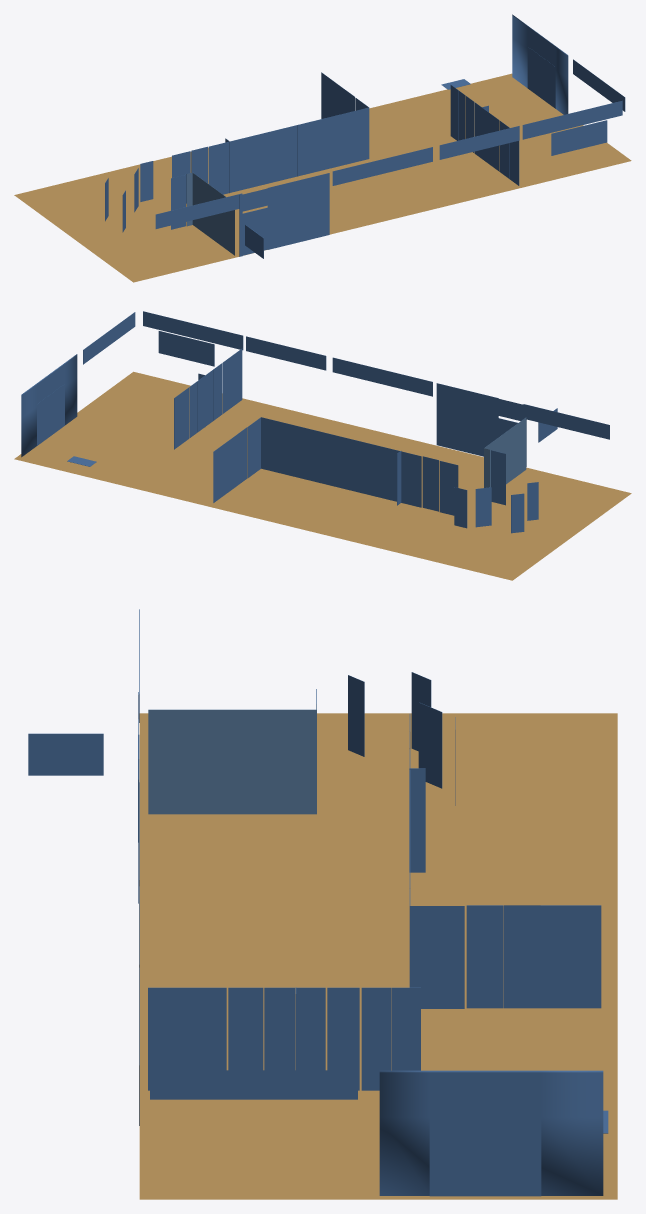
Rendered from EvonoveGlass.obj.
3 renders of one model, top to bottom at view 1: azimuth 30°, elevation 25°; view 2: azimuth 150°, elevation 25°; view 3: azimuth 270°, elevation 25°, orthographic. The views are drawn at different scales.
Parts seen in each view (by area): view 1: instance_1.008_ID233, FinestraScalette_Cube.048, VetroLabUfficio.001_Cube.056, Cube.014_Cube.022, Cube_Cube.051, Finestra_Cube.052, Finestra.003_Cube.179, Cube.051_Cube.190, Finestra.001_Cube.053, Cube_001.016_Cube.465, Cube_001.014_Cube.463, Cube_001.015_Cube.464 (+19 smaller); view 2: instance_1.008_ID233, FinestraScalette_Cube.048, VetroLabUfficio.001_Cube.056, Cube_Cube.051, Finestra_Cube.052, Cube.014_Cube.022, Finestra.003_Cube.179, Cube.051_Cube.190, Finestra.001_Cube.053, Cube_001.028_Cube.496, Cube_001.018_Cube.467, Cube_001.020_Cube.469 (+28 smaller); view 3: instance_1.008_ID233, VetroLabUfficio.001_Cube.056, Cube.014_Cube.022, Cube_001.012_Cube.461, Finestra.002_Cube.054, Cube_001.013_Cube.462, Cube.073_Cube.326, Cube.072_Cube.323, Cube_001.006_Cube.420, Cube_001.005_Cube.408, Cube_001.027_Cube.477, Cube_001.026_Cube.476 (+11 smaller).
Boxes of the visible parts, box(x1,y1,x2,y2) form: instance_1.008_ID233: box(14, 73, 631, 282); FinestraScalette_Cube.048: box(239, 173, 329, 256); VetroLabUfficio.001_Cube.056: box(512, 14, 568, 114); Cube.014_Cube.022: box(192, 173, 234, 255); Cube_Cube.051: box(522, 100, 622, 139); Finestra_Cube.052: box(332, 147, 432, 185); Finestra.003_Cube.179: box(155, 193, 242, 228); Cube.051_Cube.190: box(551, 120, 607, 155); Finestra.001_Cube.053: box(439, 126, 519, 159); Cube_001.016_Cube.465: box(315, 116, 333, 171); Cube_001.014_Cube.463: box(351, 107, 369, 163); Cube_001.015_Cube.464: box(333, 112, 351, 167); instance_1.008_ID233: box(14, 371, 631, 580); FinestraScalette_Cube.048: box(436, 383, 526, 466); VetroLabUfficio.001_Cube.056: box(21, 354, 77, 457); Cube_Cube.051: box(143, 311, 243, 350); Finestra_Cube.052: box(332, 357, 432, 396); Cube.014_Cube.022: box(484, 417, 526, 487); Finestra.003_Cube.179: box(523, 404, 609, 439); Cube.051_Cube.190: box(158, 331, 214, 366); Finestra.001_Cube.053: box(246, 336, 326, 370); Cube_001.028_Cube.496: box(401, 451, 421, 507); Cube_001.018_Cube.467: box(333, 435, 351, 490); Cube_001.020_Cube.469: box(369, 443, 387, 499); instance_1.008_ID233: box(139, 713, 617, 1199); VetroLabUfficio.001_Cube.056: box(379, 1070, 603, 1195); Cube.014_Cube.022: box(148, 709, 316, 814); Cube_001.012_Cube.461: box(540, 905, 601, 1008); Finestra.002_Cube.054: box(150, 1070, 357, 1099); Cube_001.013_Cube.462: box(410, 906, 464, 1008); Cube.073_Cube.326: box(429, 1112, 485, 1196); Cube.072_Cube.323: box(486, 1112, 541, 1196); Cube_001.006_Cube.420: box(466, 905, 503, 1008); Cube_001.005_Cube.408: box(504, 905, 540, 1008); Cube_001.027_Cube.477: box(148, 987, 187, 1090); Cube_001.026_Cube.476: box(187, 987, 226, 1070).
Bounding box in the file's own units: 24.9 × 3.01 × 12.75.
